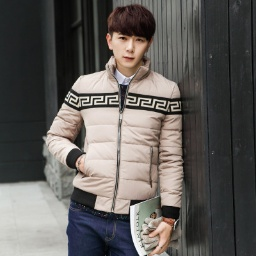face: (106, 4, 158, 66)
